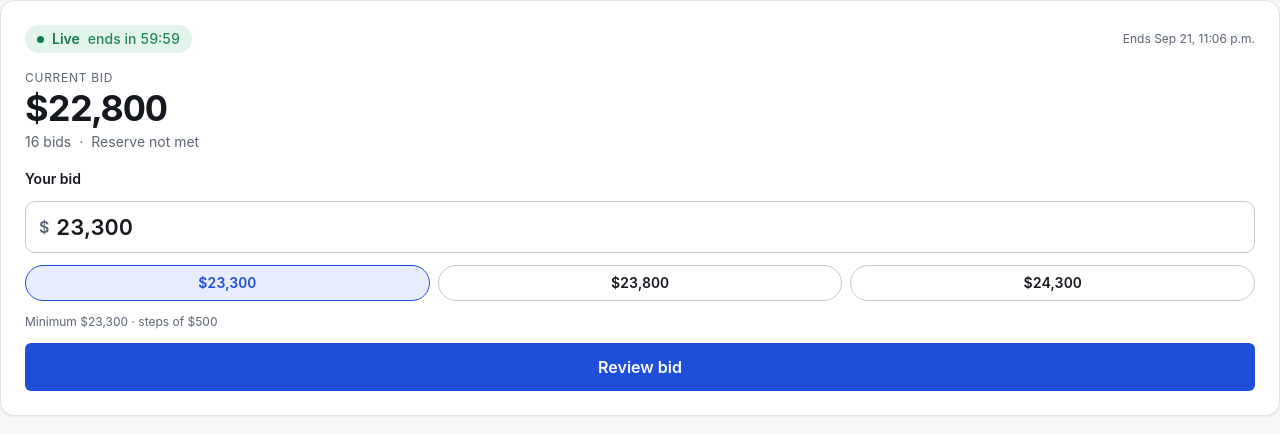
Test: BidPanel › blocks review when the amount is invalid and explains why
This screenshot has width=1280, height=434.
Replace the text in the field labelled "Your bid" with "23400". click: (640, 227)
box: 25,201 -> 1255,253
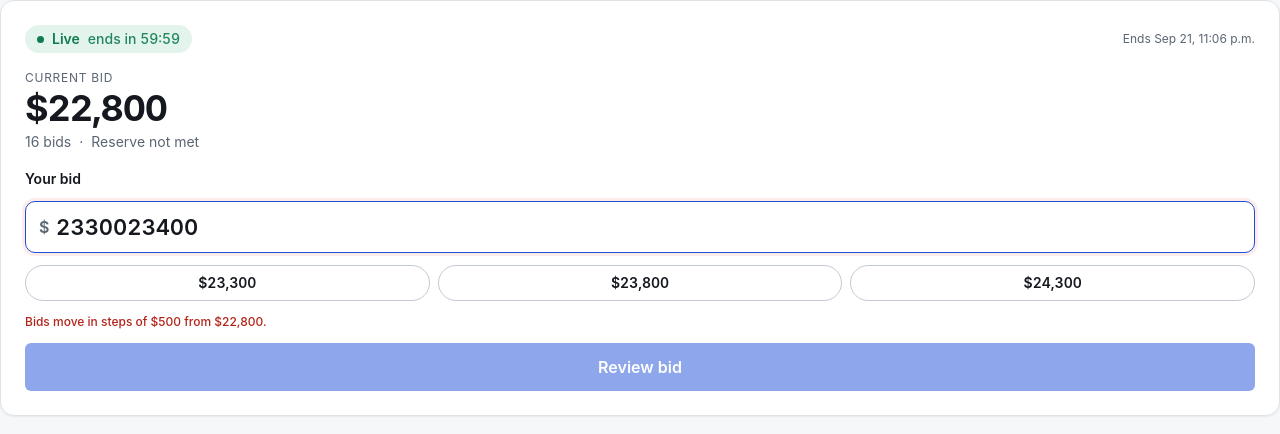
Expected: the text "Bids move in steps of $500 from $22,800." is shown, 25,314 -> 267,329
Expected: the button "Review bid" is disabled, 25,343 -> 1255,391
